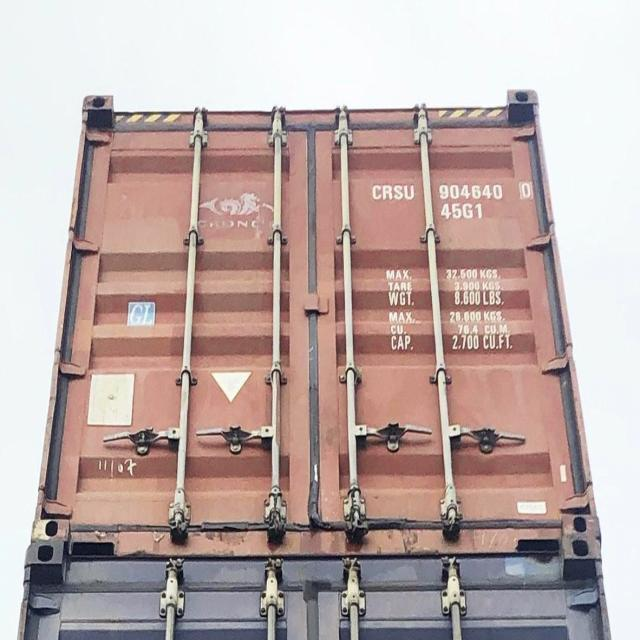ISO: (438, 199, 484, 221)
container_number: (369, 179, 537, 200)
